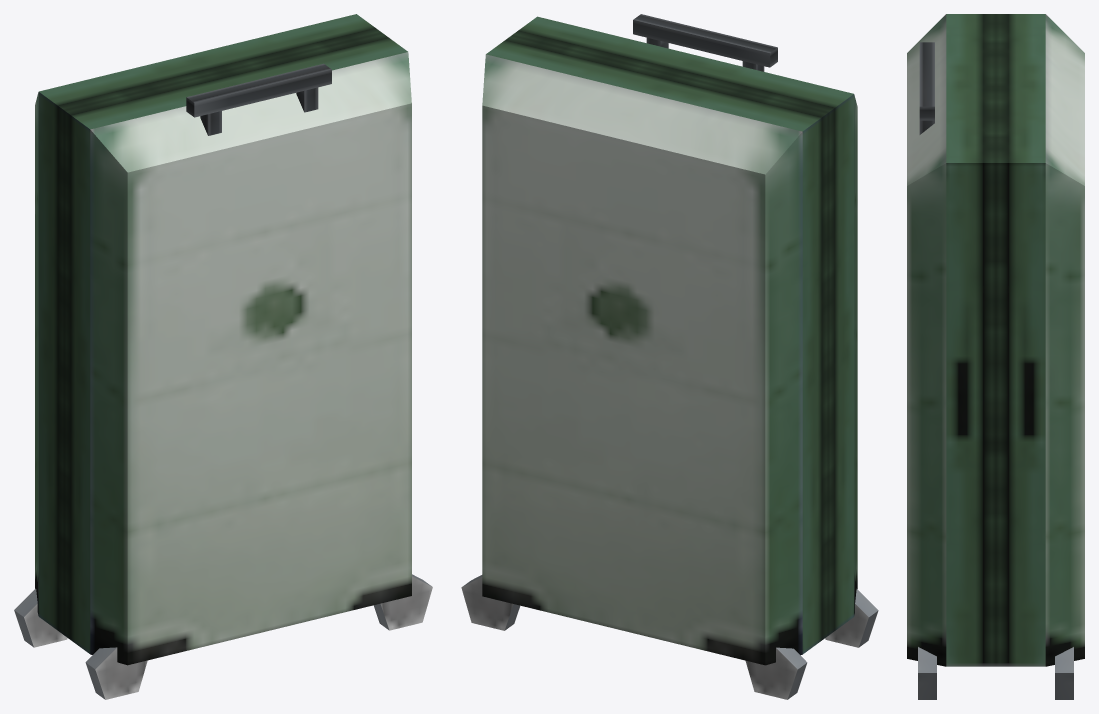
Rendered from Suitcase01C.obj.
The picture shows the model from 3 angles, left to right: view 1: azimuth 30°, elevation 25°; view 2: azimuth 150°, elevation 25°; view 3: azimuth 270°, elevation 25°; orthographic projection. The views are drawn at different scales.
Parts seen in each view (by area): view 1: Suitcase01.Bttm, Suitcase01.Top; view 2: Suitcase01.Top, Suitcase01.Bttm; view 3: Suitcase01.Bttm, Suitcase01.Top.
Part boxes in pixels (x1,y1,x2,y2): Suitcase01.Bttm: (64, 33, 432, 699); Suitcase01.Top: (14, 14, 381, 647); Suitcase01.Top: (461, 35, 828, 699); Suitcase01.Bttm: (512, 14, 878, 647); Suitcase01.Bttm: (907, 14, 995, 699); Suitcase01.Top: (996, 14, 1084, 699).
Size of the model in its own units: 1.23 by 2 by 0.5833.
